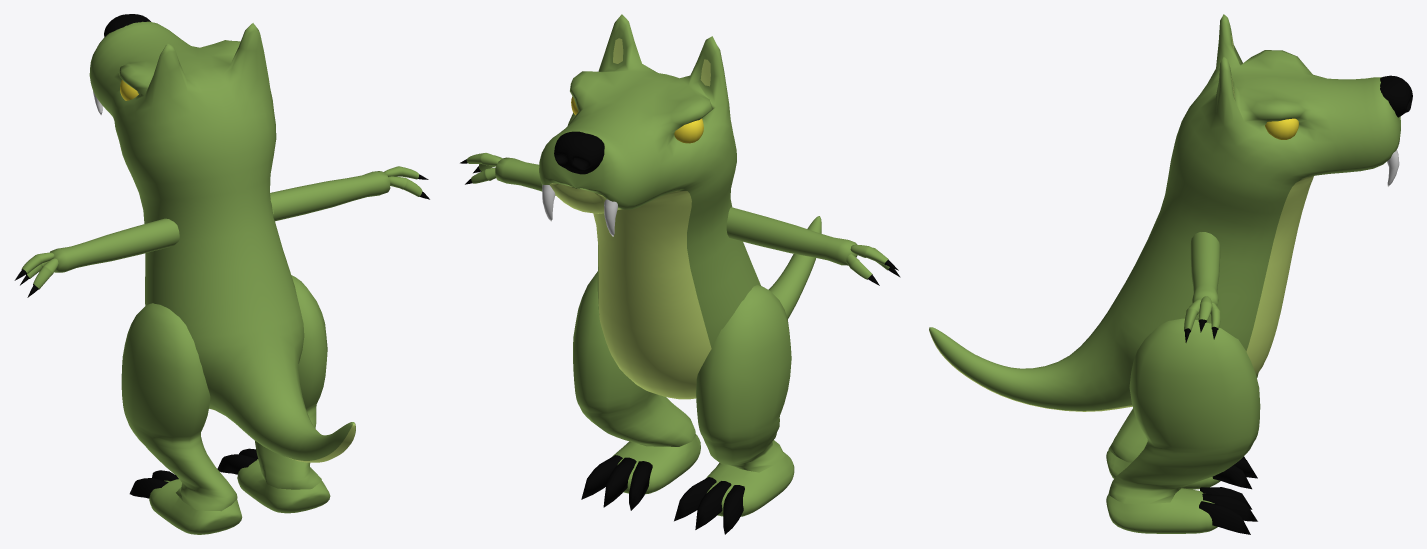
File: Yagui.glb
The picture shows the model from 3 angles, left to right: view 1: azimuth 30°, elevation 25°; view 2: azimuth 150°, elevation 25°; view 3: azimuth 270°, elevation 25°; orthographic projection. The views are drawn at different scales.
Parts seen in each view (by area): view 1: Cuerpo, Piernas, Brazos, Pies, Dedos, Unias; view 2: Cuerpo, Piernas, Pies, Brazos, Unias, Sphere, Dedos, Cylinder, Ojos; view 3: Cuerpo, Piernas, Pies, Unias, Brazos, Sphere, Dedos, Ojos.
Boxes of the visible parts, bbox=[...] form: Cuerpo: bbox=[89, 21, 355, 462]; Piernas: bbox=[121, 275, 327, 511]; Brazos: bbox=[50, 171, 390, 272]; Pies: bbox=[149, 459, 330, 534]; Dedos: bbox=[14, 166, 429, 297]; Unias: bbox=[129, 448, 258, 498]; Cuerpo: bbox=[539, 14, 821, 399]; Piernas: bbox=[573, 271, 791, 472]; Pies: bbox=[612, 434, 794, 516]; Brazos: bbox=[495, 157, 857, 265]; Unias: bbox=[581, 455, 744, 534]; Sphere: bbox=[554, 131, 604, 174]; Dedos: bbox=[460, 153, 900, 285]; Cylinder: bbox=[542, 184, 617, 236]; Ojos: bbox=[571, 96, 703, 143]; Cuerpo: bbox=[929, 14, 1400, 411]; Piernas: bbox=[1108, 318, 1260, 504]; Pies: bbox=[1106, 450, 1220, 533]; Unias: bbox=[1199, 456, 1257, 534]; Brazos: bbox=[1190, 232, 1220, 313]; Sphere: bbox=[1380, 75, 1412, 117]; Dedos: bbox=[1184, 296, 1220, 342]; Ojos: bbox=[1265, 118, 1298, 139].
Bounding box in the file's own units: 3.53 × 3.71 × 3.48.
